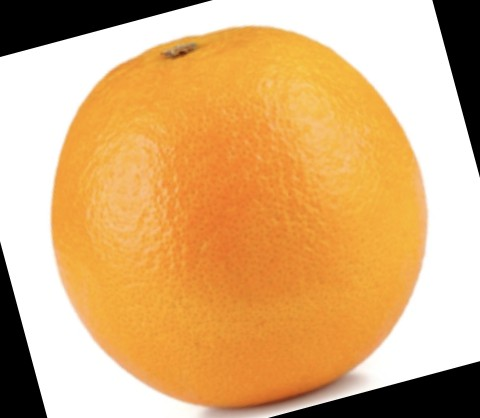fresh_orange: (47, 22, 427, 409)
